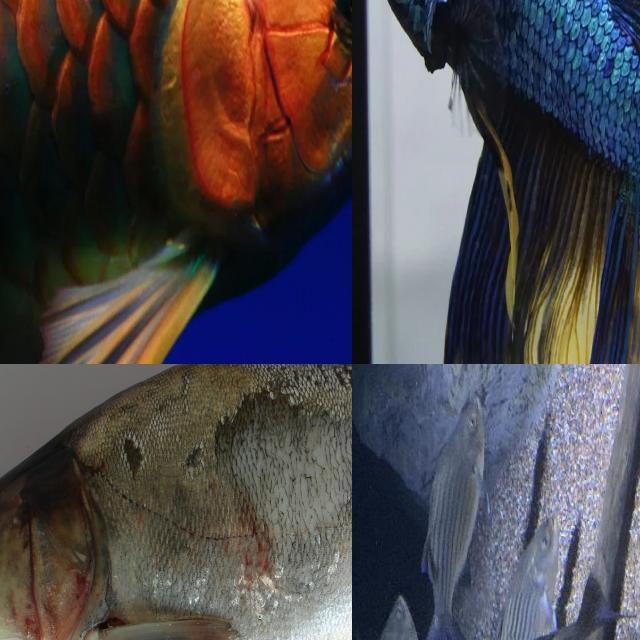fish: (0, 0, 352, 364), (0, 364, 352, 640), (366, 47, 640, 364)
